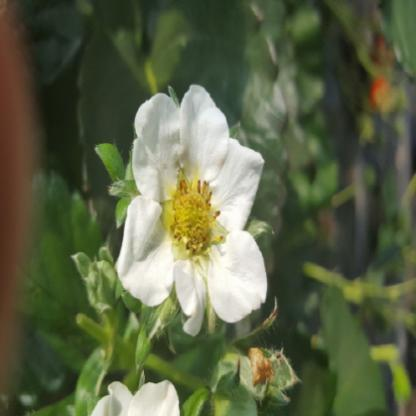Strawberry_Blossom_Blight: (157, 163, 232, 268)
